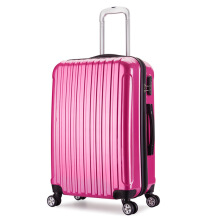luggage: (44, 4, 163, 217)
